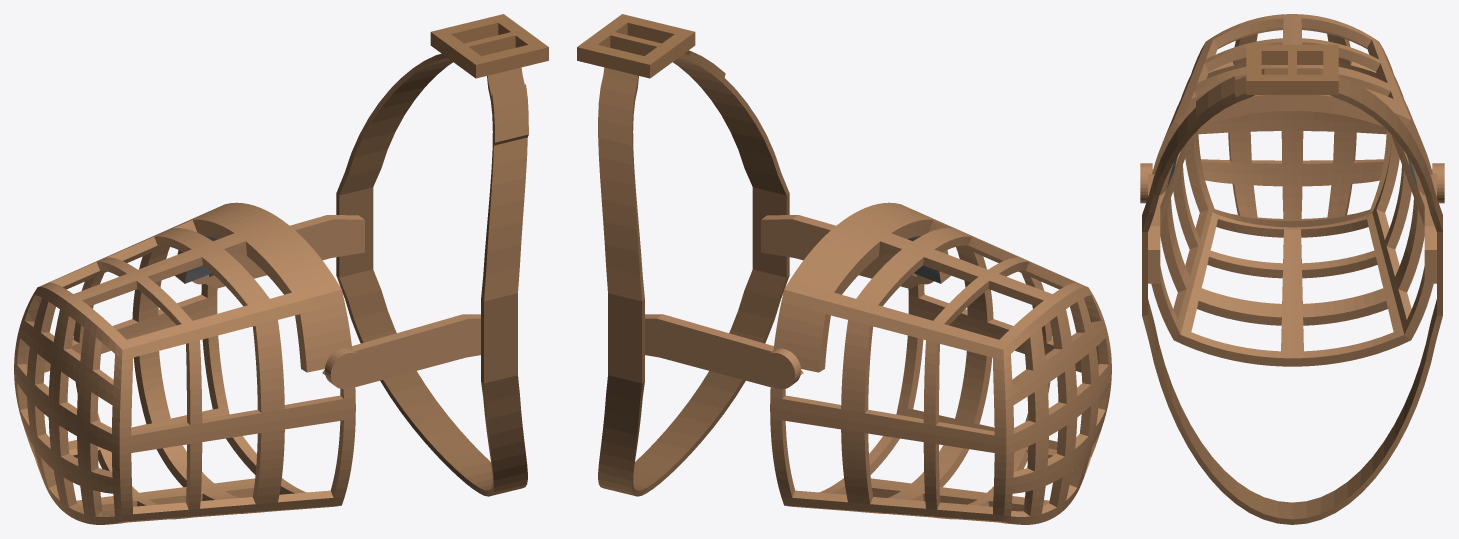
3 views of the same model, side by side, from view 1: azimuth 30°, elevation 25°; view 2: azimuth 150°, elevation 25°; view 3: azimuth 270°, elevation 25° (orthographic).
Parts seen in each view (by area): view 1: Integrated_lattice_bridge_cheeks, Continuous_adjustable_neck_loop, Open_single_adjustment_buckle, Retained_overlap_tail; view 2: Integrated_lattice_bridge_cheeks, Continuous_adjustable_neck_loop, Open_single_adjustment_buckle; view 3: Integrated_lattice_bridge_cheeks, Continuous_adjustable_neck_loop, Open_single_adjustment_buckle, Retained_overlap_tail.
Part boxes in pixels (x1,y1,x2,y2): Integrated_lattice_bridge_cheeks: (14, 202, 480, 524); Continuous_adjustable_neck_loop: (336, 53, 527, 496); Open_single_adjustment_buckle: (430, 14, 548, 78); Retained_overlap_tail: (491, 84, 528, 145); Integrated_lattice_bridge_cheeks: (645, 202, 1111, 524); Continuous_adjustable_neck_loop: (598, 53, 789, 496); Open_single_adjustment_buckle: (577, 14, 695, 78); Integrated_lattice_bridge_cheeks: (1140, 14, 1444, 366); Continuous_adjustable_neck_loop: (1142, 68, 1442, 524); Open_single_adjustment_buckle: (1246, 44, 1338, 94); Retained_overlap_tail: (1196, 76, 1235, 121).
Size of the model in its own units: 0.181 by 0.163 by 0.099.
